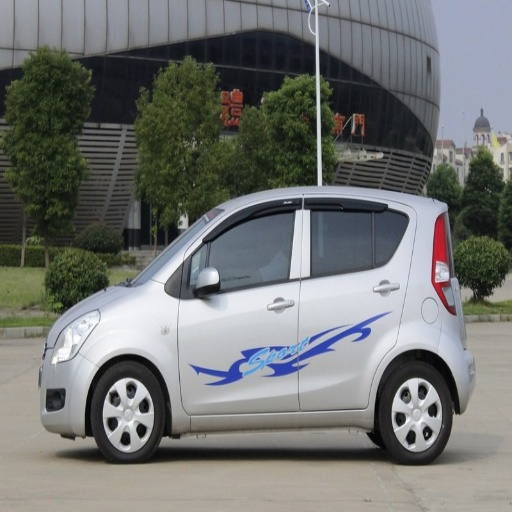back_left_door: (300, 195, 412, 410)
front_left_door: (178, 196, 301, 415)
